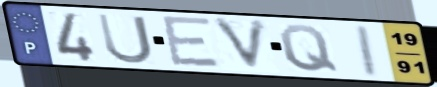4: (53, 11, 98, 63)
E: (159, 13, 224, 69)
I: (356, 23, 382, 79)
Q: (277, 23, 342, 74)
U: (94, 12, 156, 66)
V: (209, 17, 271, 74)
